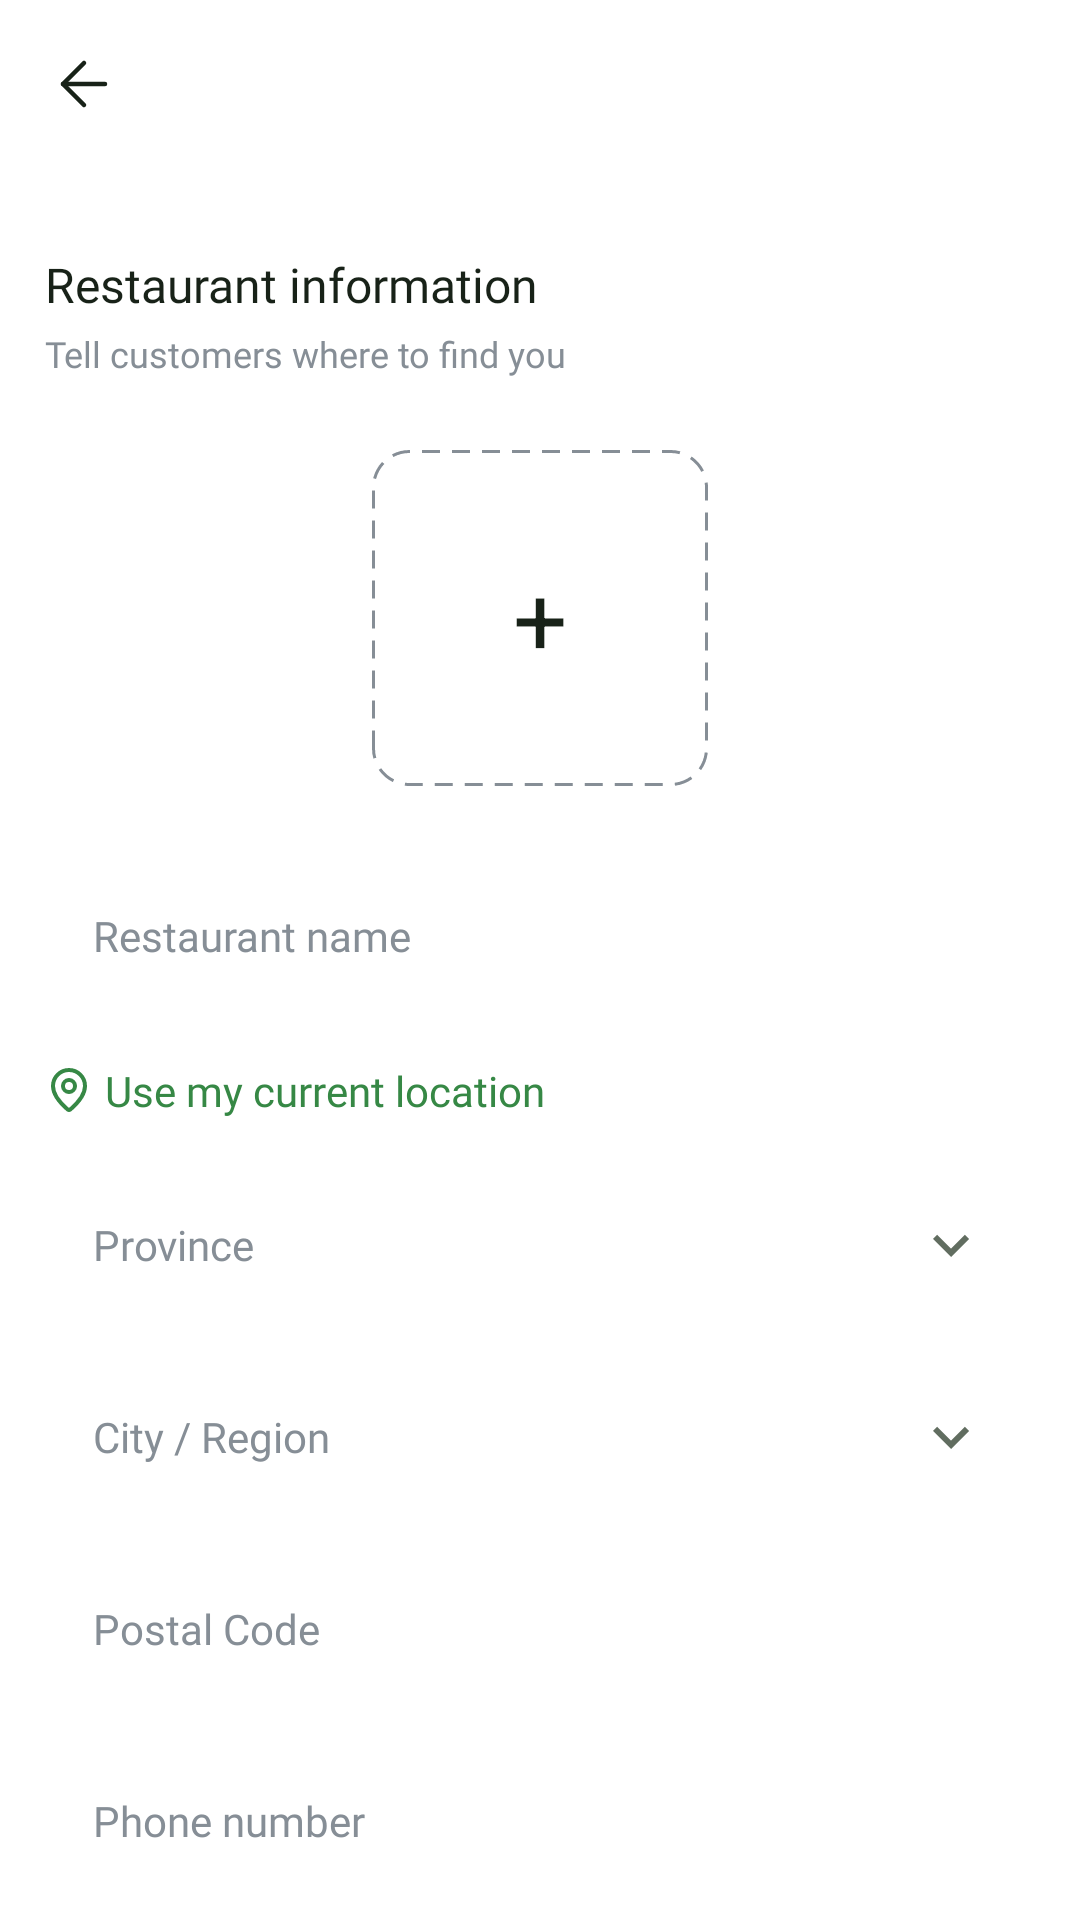

Point at icon controls on the screen. Image size 1080w x 1920h, points as (x=x, y=y).
Back: (x=83, y=84)
map: (x=69, y=1090)
